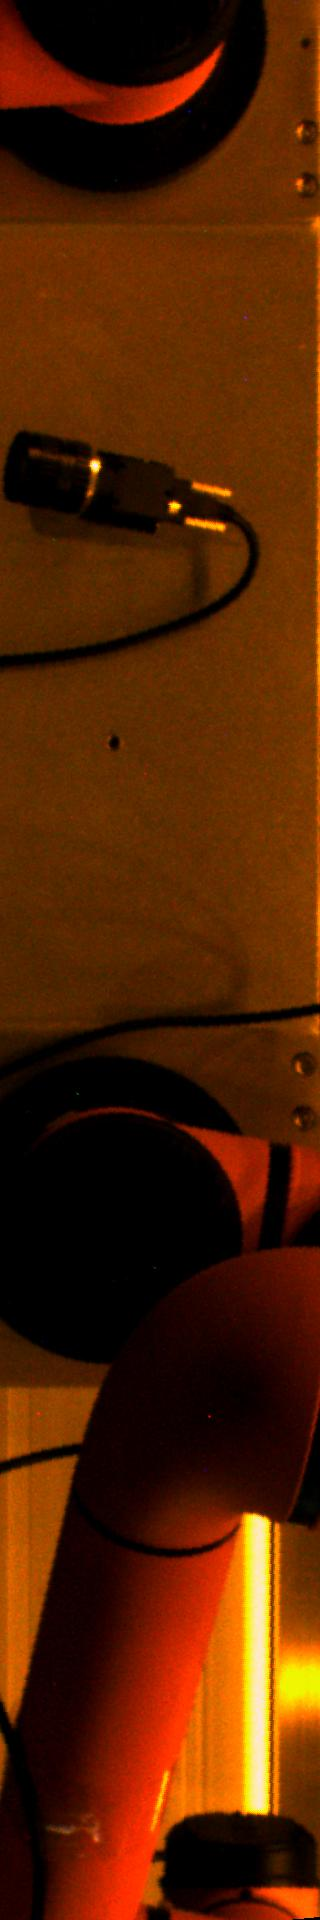keyPoint_2: (98, 729, 128, 759)
